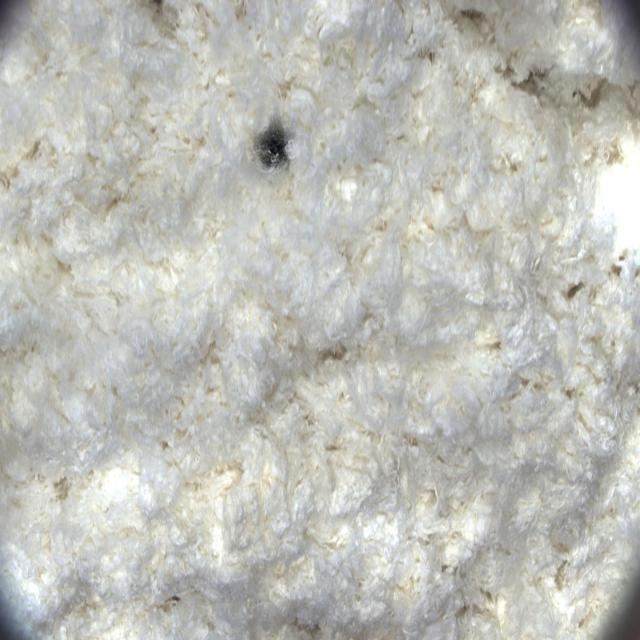dust: (241, 92, 314, 205)
